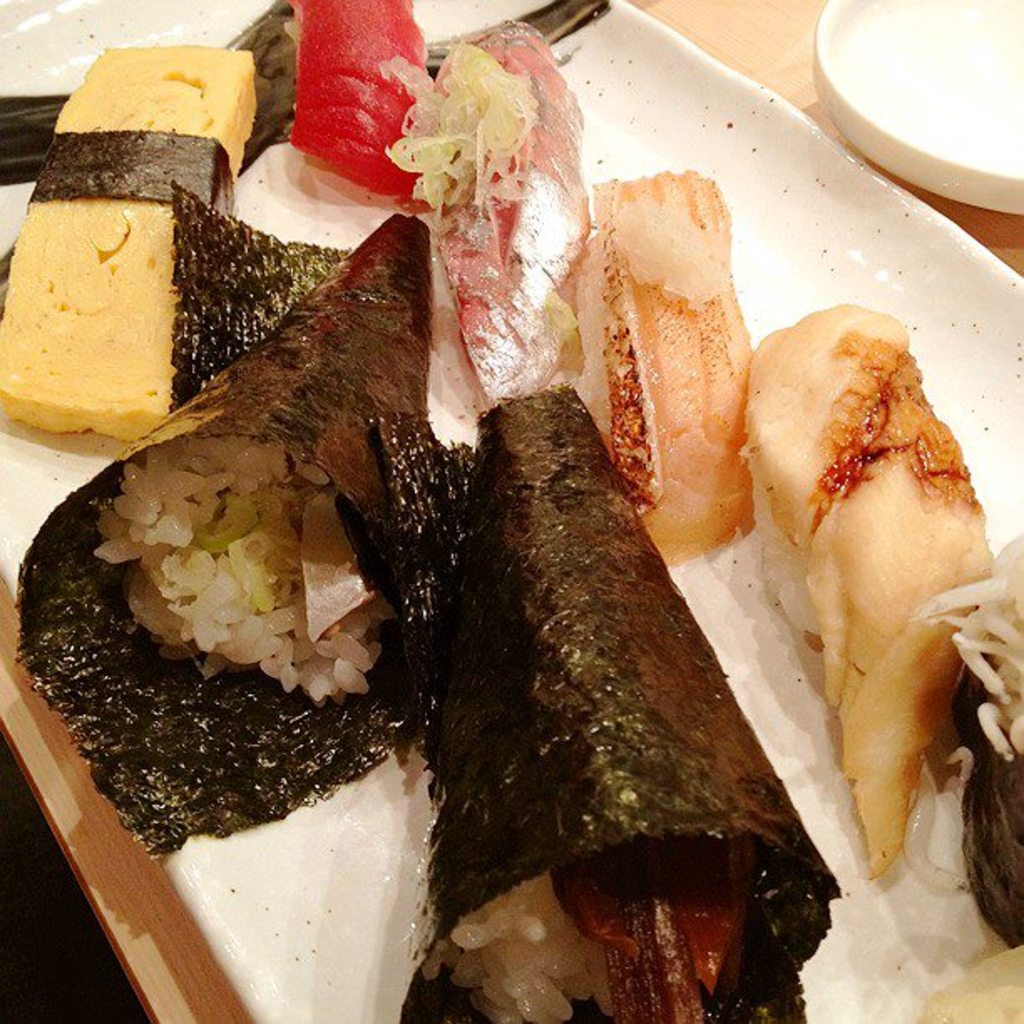sushi: (0, 0, 1022, 1022), (7, 40, 256, 460)
